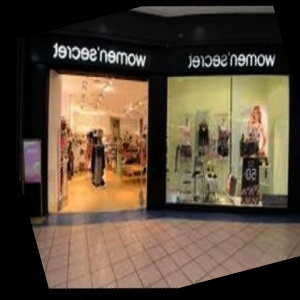women_secret: (90, 0, 285, 98), (114, 4, 173, 28)
